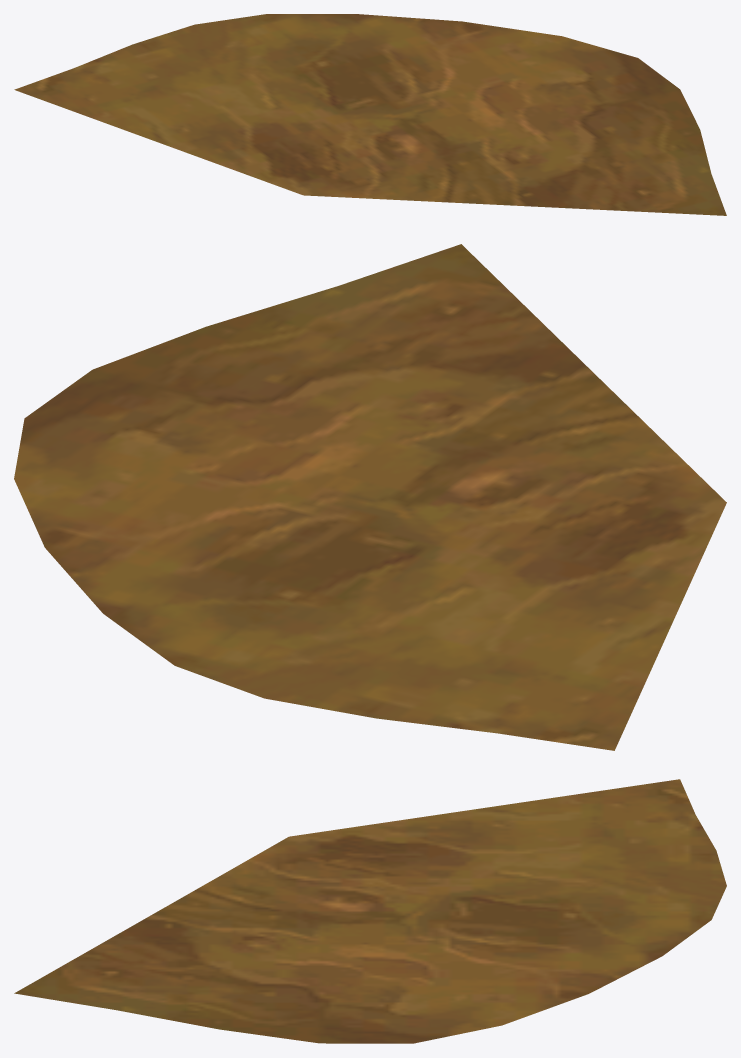
File: HTOWN01_GARDEN02.fbx
The picture shows the model from 3 angles, top to bottom: view 1: azimuth 30°, elevation 25°; view 2: azimuth 150°, elevation 25°; view 3: azimuth 270°, elevation 25°; orthographic projection. The views are drawn at different scales.
Parts seen in each view (by area): view 1: HTOWN01_GARDEN02; view 2: HTOWN01_GARDEN02; view 3: HTOWN01_GARDEN02.
Part boxes in pixels (x1=…): HTOWN01_GARDEN02: x1=14, y1=14, x2=726, y2=215; HTOWN01_GARDEN02: x1=14, y1=244, x2=726, y2=750; HTOWN01_GARDEN02: x1=14, y1=779, x2=726, y2=1043.
Bounding box in the file's own units: 39496 × 0.00885 × 44971.
1 material, 1 textured.
